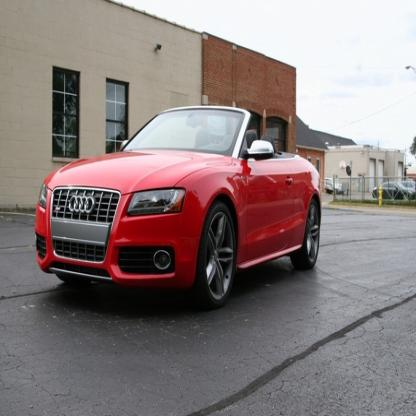Vehicle: (34, 105, 321, 306)
